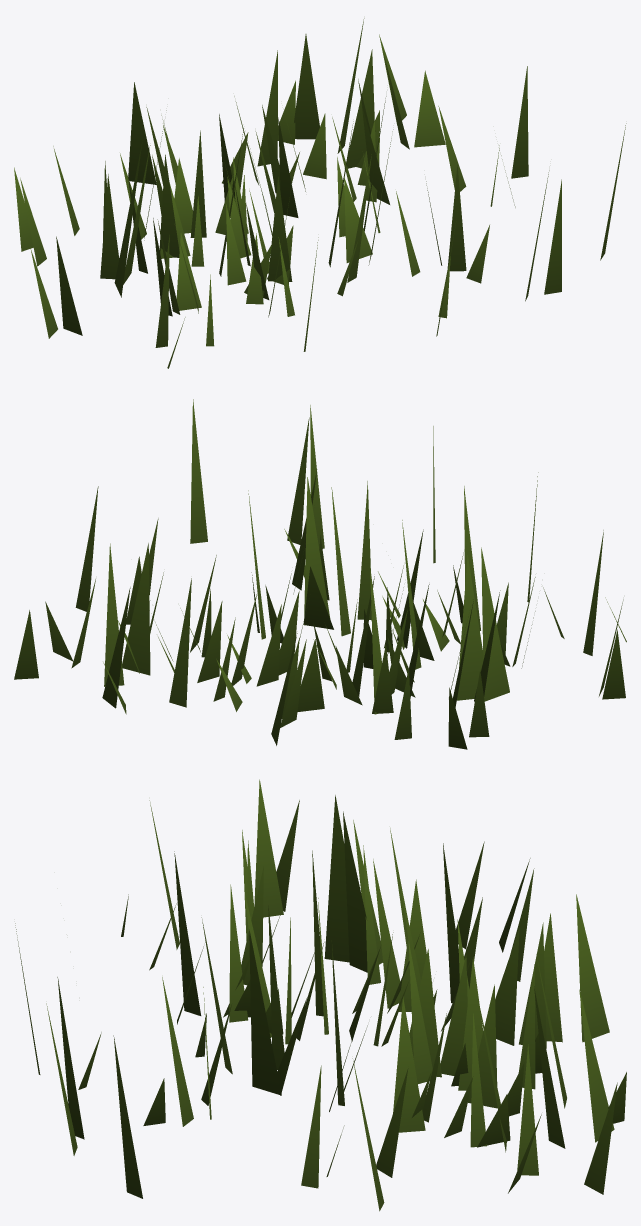
The model's file is Grass_Patch_1.glb.
3 renders of one model, top to bottom at view 1: azimuth 30°, elevation 25°; view 2: azimuth 150°, elevation 25°; view 3: azimuth 270°, elevation 25°, orthographic. The views are drawn at different scales.
Parts seen in each view (by area): view 1: GrassPatch_1; view 2: GrassPatch_1; view 3: GrassPatch_1.
Boxes of the visible parts, x1=… form: GrassPatch_1: x1=14, y1=18, x2=626, y2=368; GrassPatch_1: x1=14, y1=399, x2=626, y2=749; GrassPatch_1: x1=15, y1=779, x2=626, y2=1211.
Bounding box in the file's own units: 5.29 × 1.43 × 4.38.
